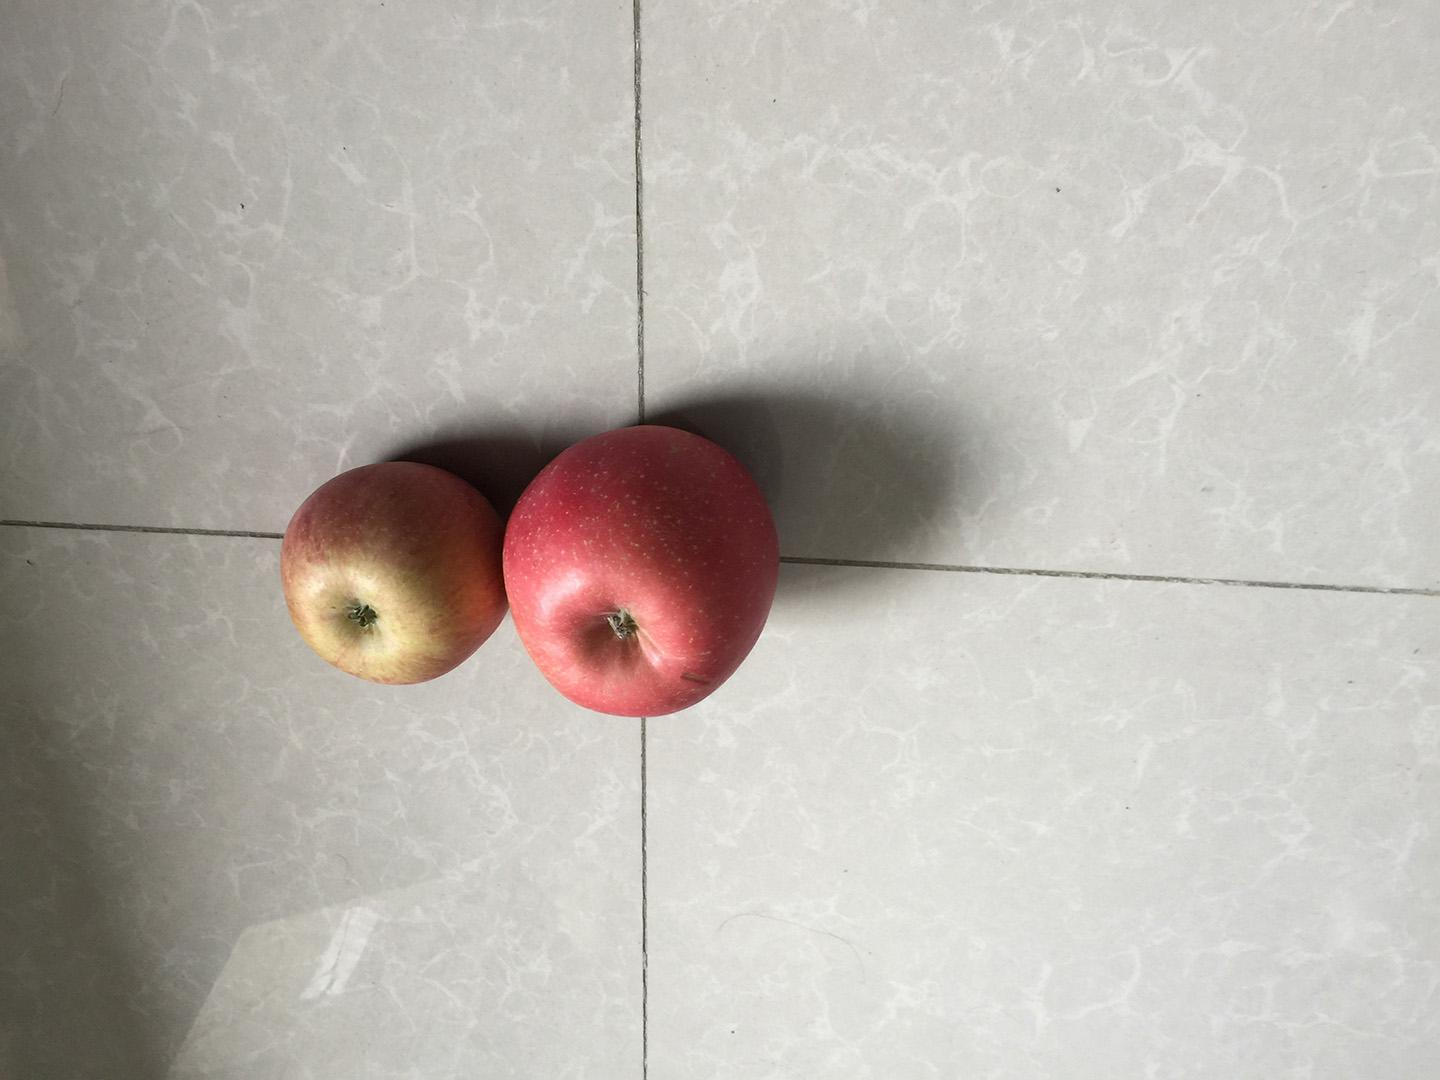apple: (491, 417, 782, 723), (276, 456, 511, 690)
